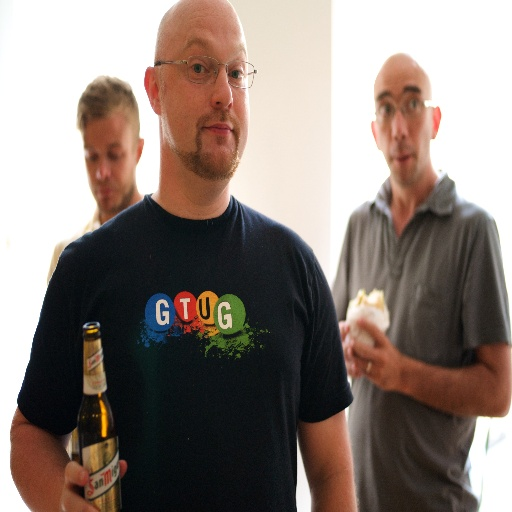hand: (343, 299, 414, 389), (57, 457, 129, 511), (336, 319, 365, 376)
